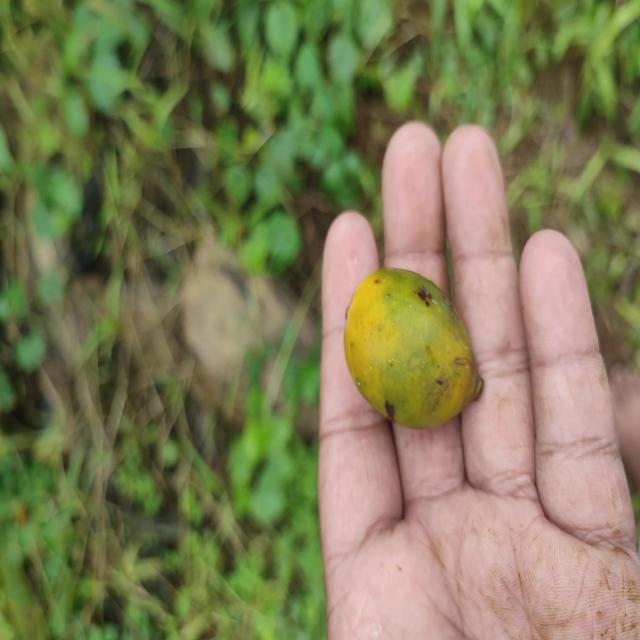damaged: (342, 268, 484, 432)
